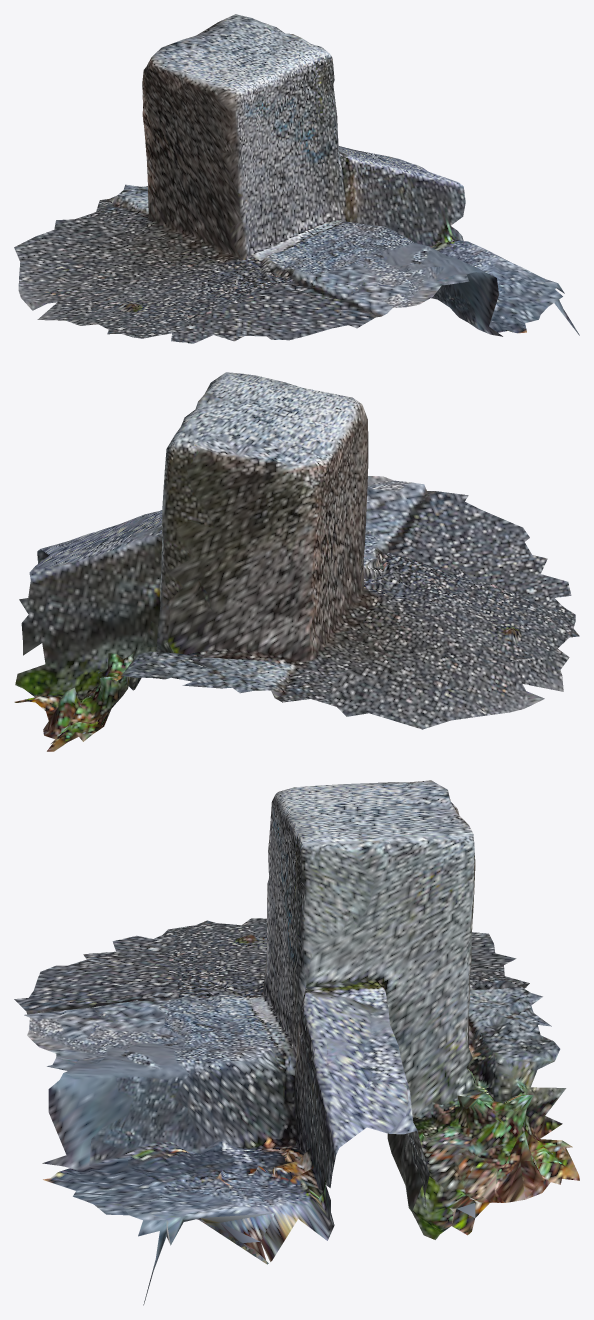
File: stone_post.gltf
3 views of the same model, one above another, from view 1: azimuth 30°, elevation 25°; view 2: azimuth 150°, elevation 25°; view 3: azimuth 270°, elevation 25° (orthographic). The views are drawn at different scales.
Parts seen in each view (by area): view 1: tolppa_exp; view 2: tolppa_exp; view 3: tolppa_exp.
Part boxes in pixels (box(x1,y1,x2,y2)): tolppa_exp: box(14, 14, 579, 343); tolppa_exp: box(14, 372, 579, 751); tolppa_exp: box(14, 780, 579, 1305).
Size of the model in its own units: 18.73 by 10.62 by 15.54.
1 material, 1 textured.
